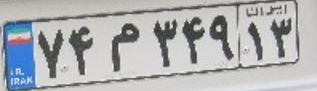character: (103, 19, 143, 75), (65, 21, 97, 78), (149, 14, 181, 71), (35, 26, 66, 83), (206, 10, 237, 65), (179, 11, 208, 68), (267, 16, 295, 60), (243, 19, 267, 64)
